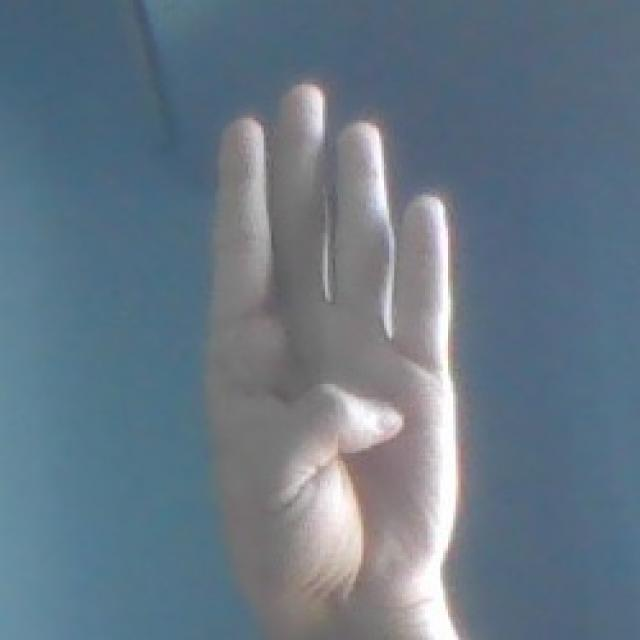Numeric-4: (202, 77, 463, 614)
